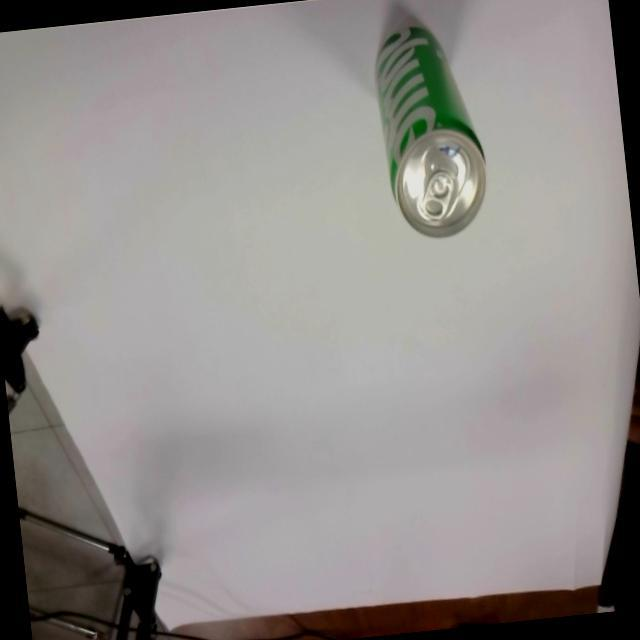debris: (369, 18, 494, 244)
